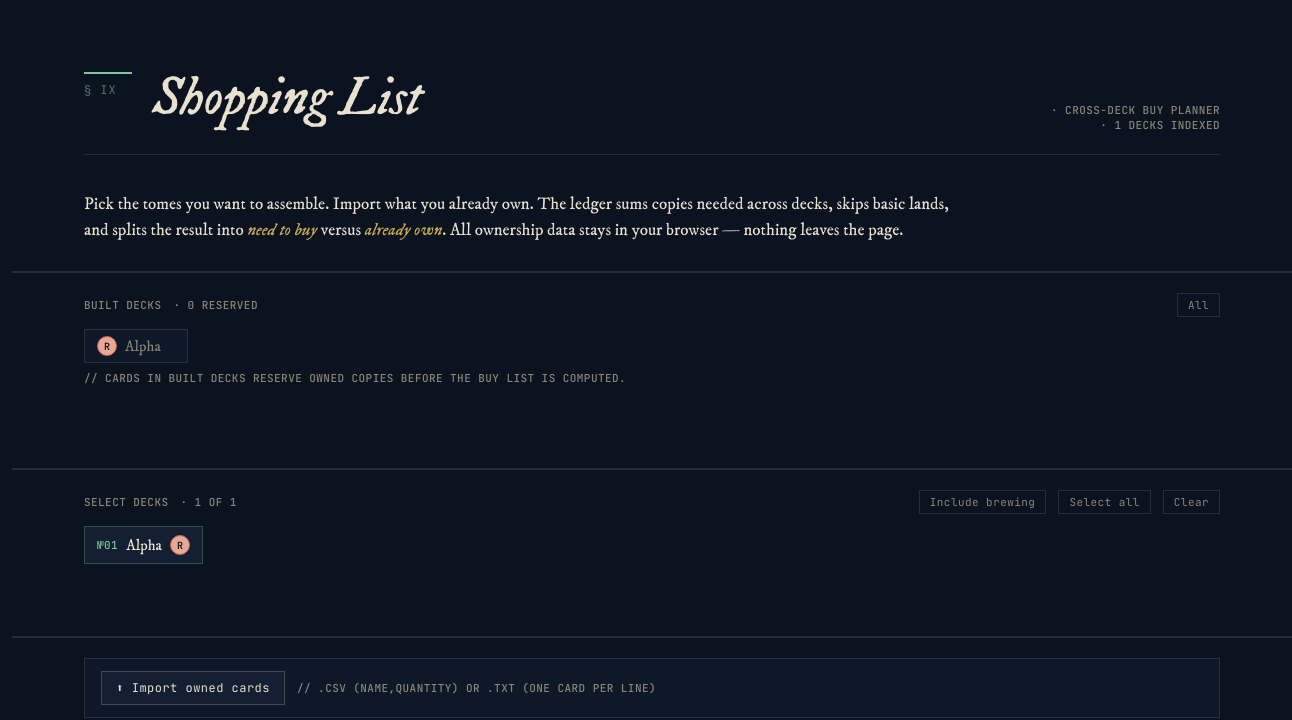
Shopping organism › excludes brewing decks from the picker by default but includes them via the toggle (DEC-338)
Expected: the button with aria-label "Remove Alpha" is shown, [84,526,203,564]
Click the button "Include brewing": {"x": 983, "y": 502} [919,490,1046,514]
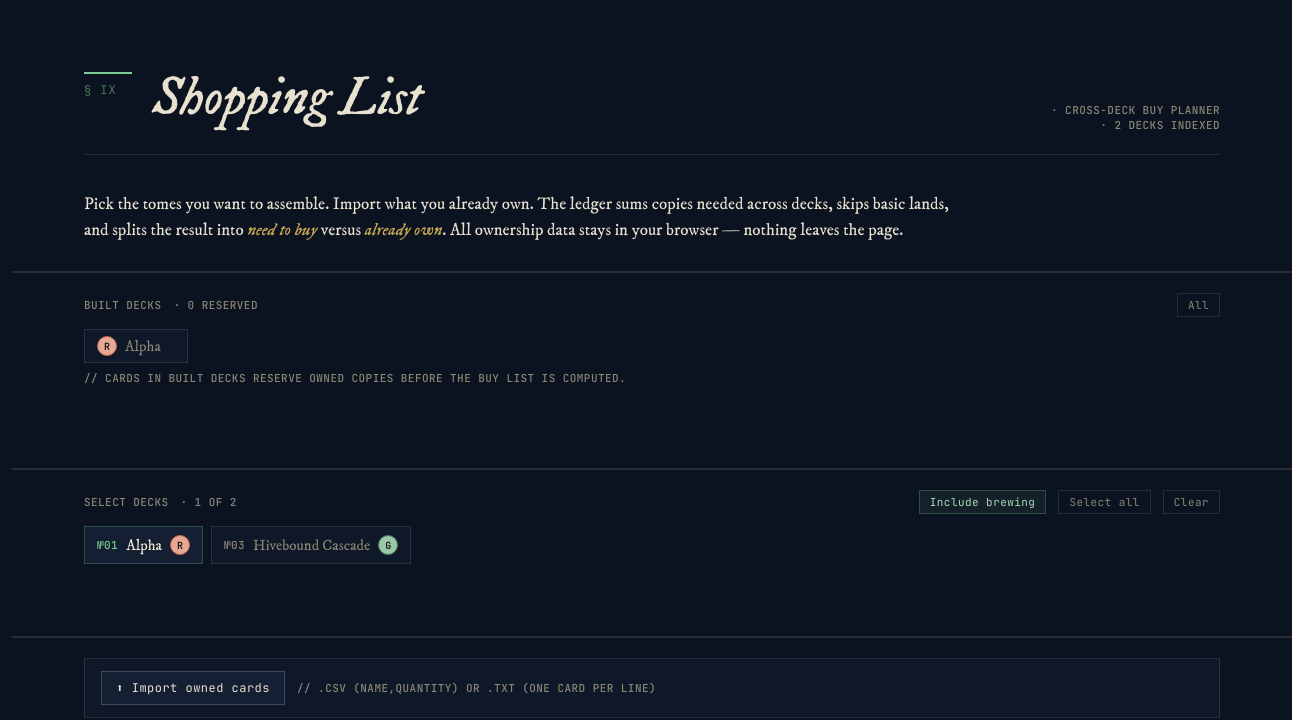
Expected: the button "Include brewing" is pressed, [919,490,1046,514]
Select the brewing deck and confirm its buy-list renders.
Click the button with aria-label "Add Hivebound Cascade": {"x": 311, "y": 546} [211,526,411,564]
(page scrolled)
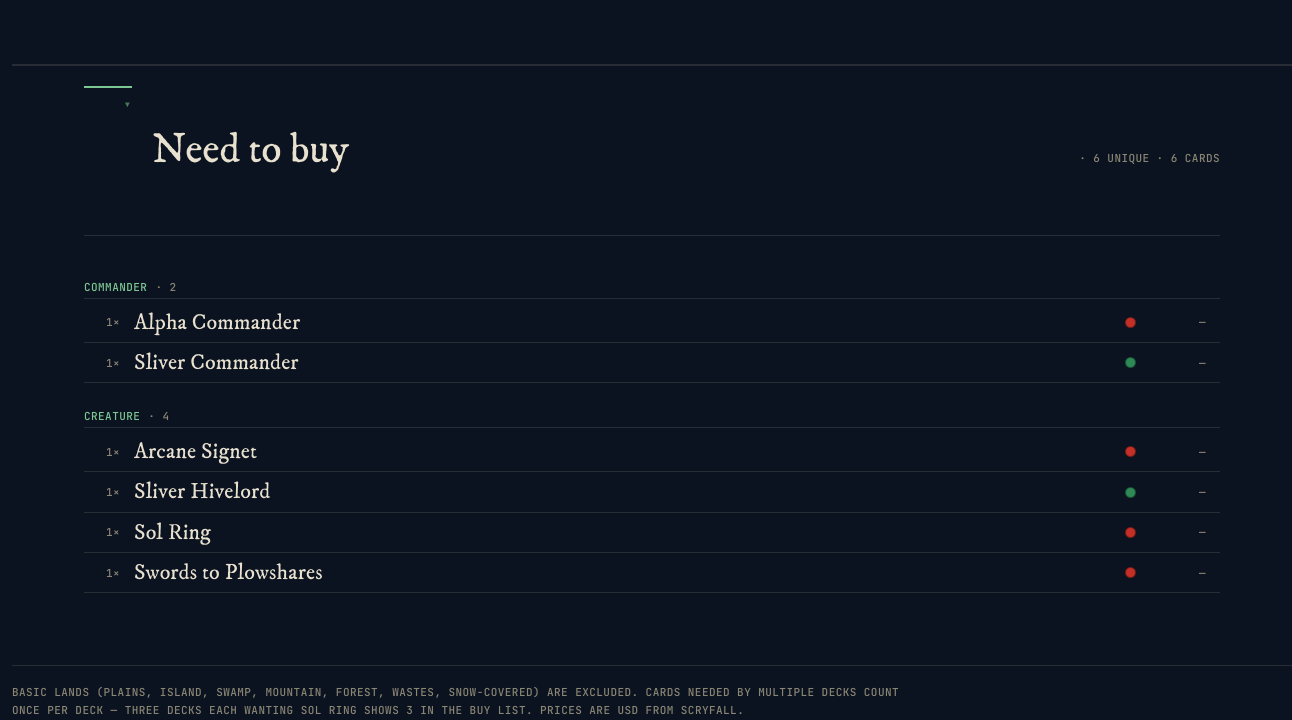
Expected: the text "Sliver Hivelord" is shown, [134,478,270,506]
